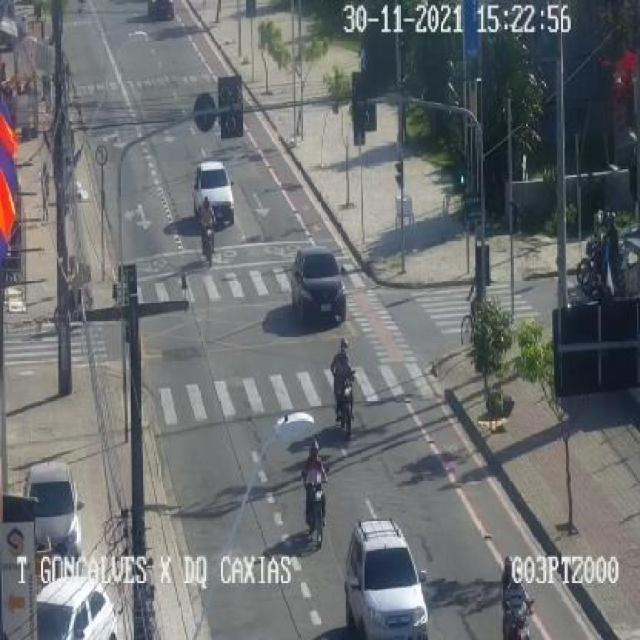Car: (348, 517, 432, 640), (13, 462, 84, 570), (25, 574, 121, 640), (292, 245, 348, 324), (189, 158, 235, 228)
Cycle: (303, 476, 332, 553), (331, 368, 355, 442), (500, 598, 536, 640), (200, 224, 214, 272)
